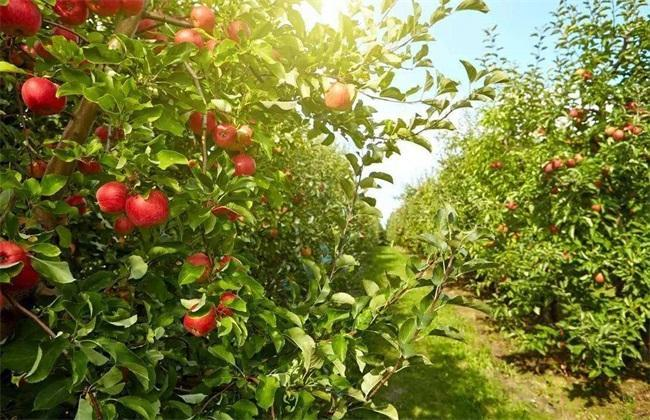apple: (1, 241, 39, 305), (20, 77, 68, 114), (125, 190, 173, 227), (1, 1, 42, 35), (182, 302, 216, 336), (96, 180, 129, 213), (192, 109, 218, 137), (325, 82, 351, 110), (173, 27, 205, 49), (213, 122, 239, 149), (189, 6, 216, 32), (231, 153, 256, 176), (228, 18, 249, 43), (88, 1, 118, 18)
